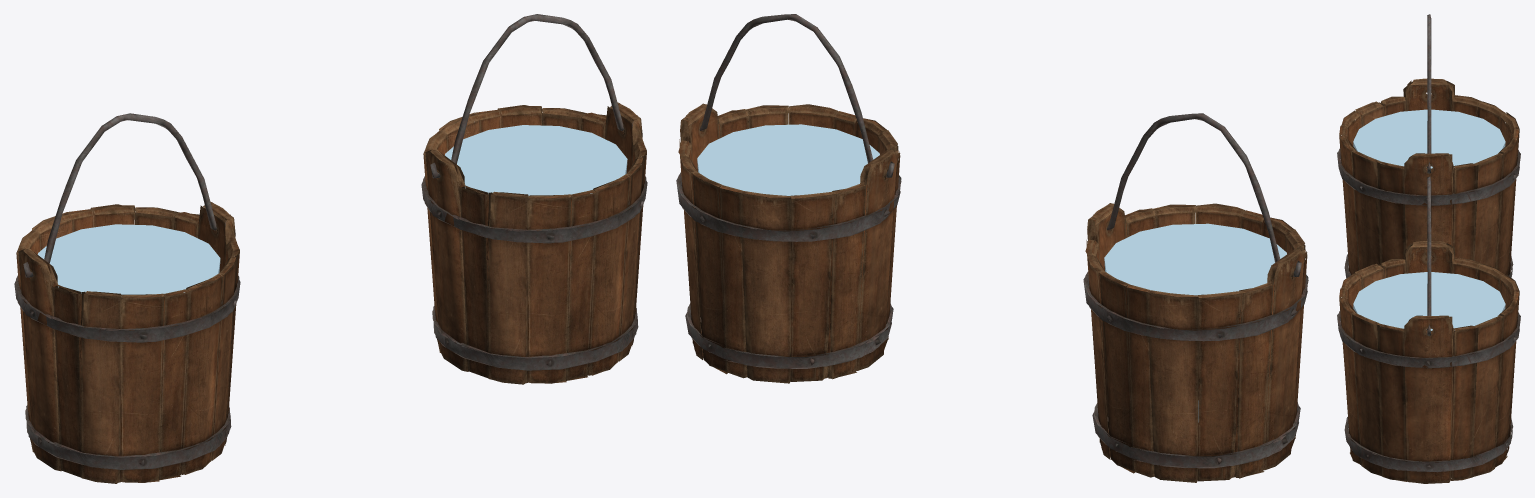
Rendered from double_bucket.glb.
The picture shows the model from 3 angles, left to right: view 1: azimuth 30°, elevation 25°; view 2: azimuth 150°, elevation 25°; view 3: azimuth 270°, elevation 25°; orthographic projection. The views are drawn at different scales.
Visible parts, largest first — view 1: BucketL, BucketR, Water, Water.001; view 2: BucketL, BucketR, Water, Water.001; view 3: BucketR, BucketL, Water, Water.001.
Boxes of the visible parts, x1=… form: BucketL: x1=14, y1=113, x2=240, y2=483; BucketR: x1=421, y1=14, x2=647, y2=384; Water: x1=37, y1=224, x2=220, y2=294; Water.001: x1=445, y1=125, x2=627, y2=195; BucketL: x1=1083, y1=113, x2=1308, y2=482; BucketR: x1=676, y1=14, x2=901, y2=383; Water: x1=1104, y1=223, x2=1286, y2=422; Water.001: x1=697, y1=124, x2=879, y2=195; BucketR: x1=1337, y1=176, x2=1520, y2=483; BucketL: x1=1337, y1=14, x2=1520, y2=285; Water: x1=1353, y1=109, x2=1505, y2=168; Water.001: x1=1353, y1=272, x2=1505, y2=330.
Size of the model in its own units: 0.7567 by 0.3866 by 0.2392.
Materials: 2 (1 with a texture image).
